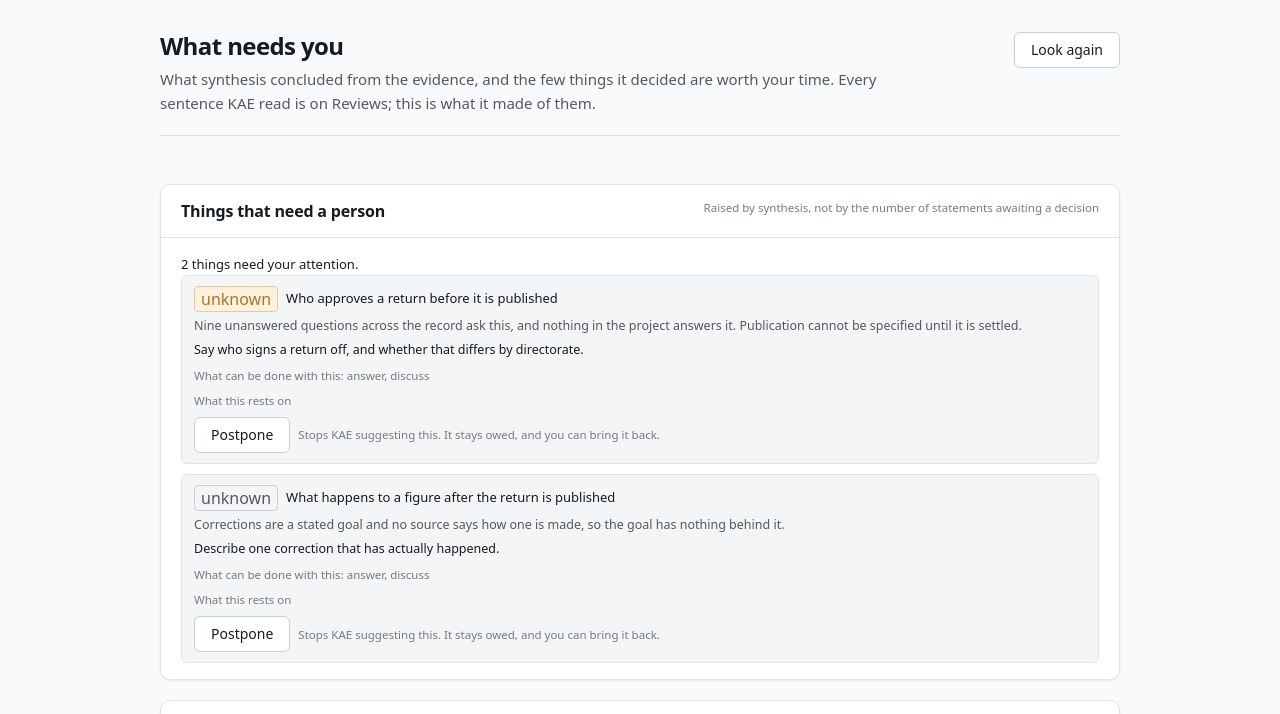
Test case: the page says how much there is to do › counts what somebody postponed apart from it, never into it
Click the 1st button "Postpone" at (242, 435), box [194, 417, 290, 453]
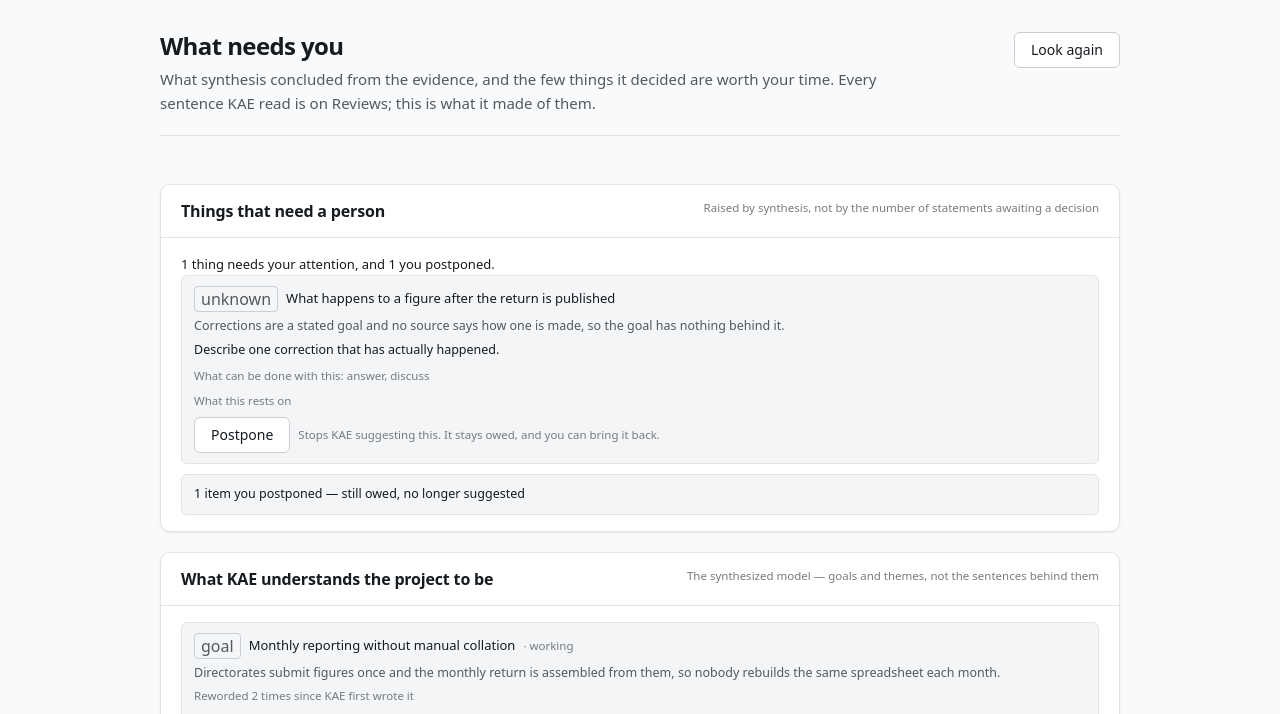
Expected: the number of buttons "Postpone" is 1, [194, 417, 290, 453]
Expected: the text "1 thing needs your attention, and 1 you postponed." is shown, [181, 255, 495, 273]
